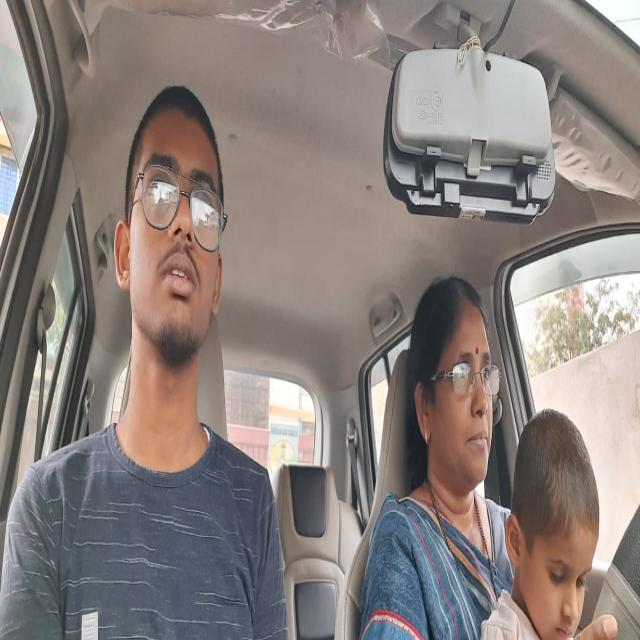child: (503, 400, 600, 640)
person: (111, 71, 229, 387), (405, 272, 505, 502)
